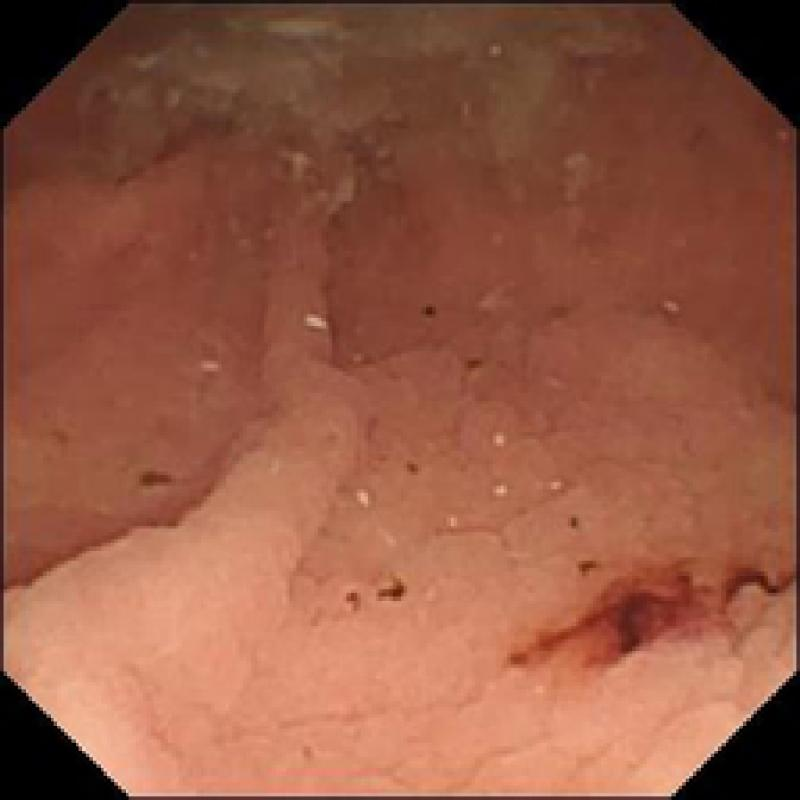bleeding: (496, 564, 800, 675)
